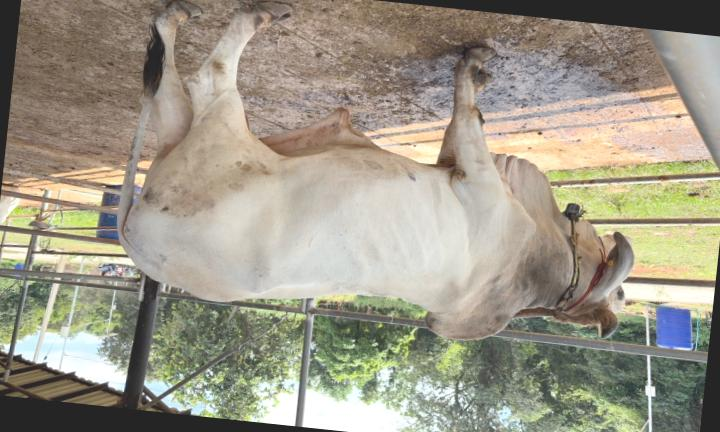Brahman: (117, 1, 632, 340)
